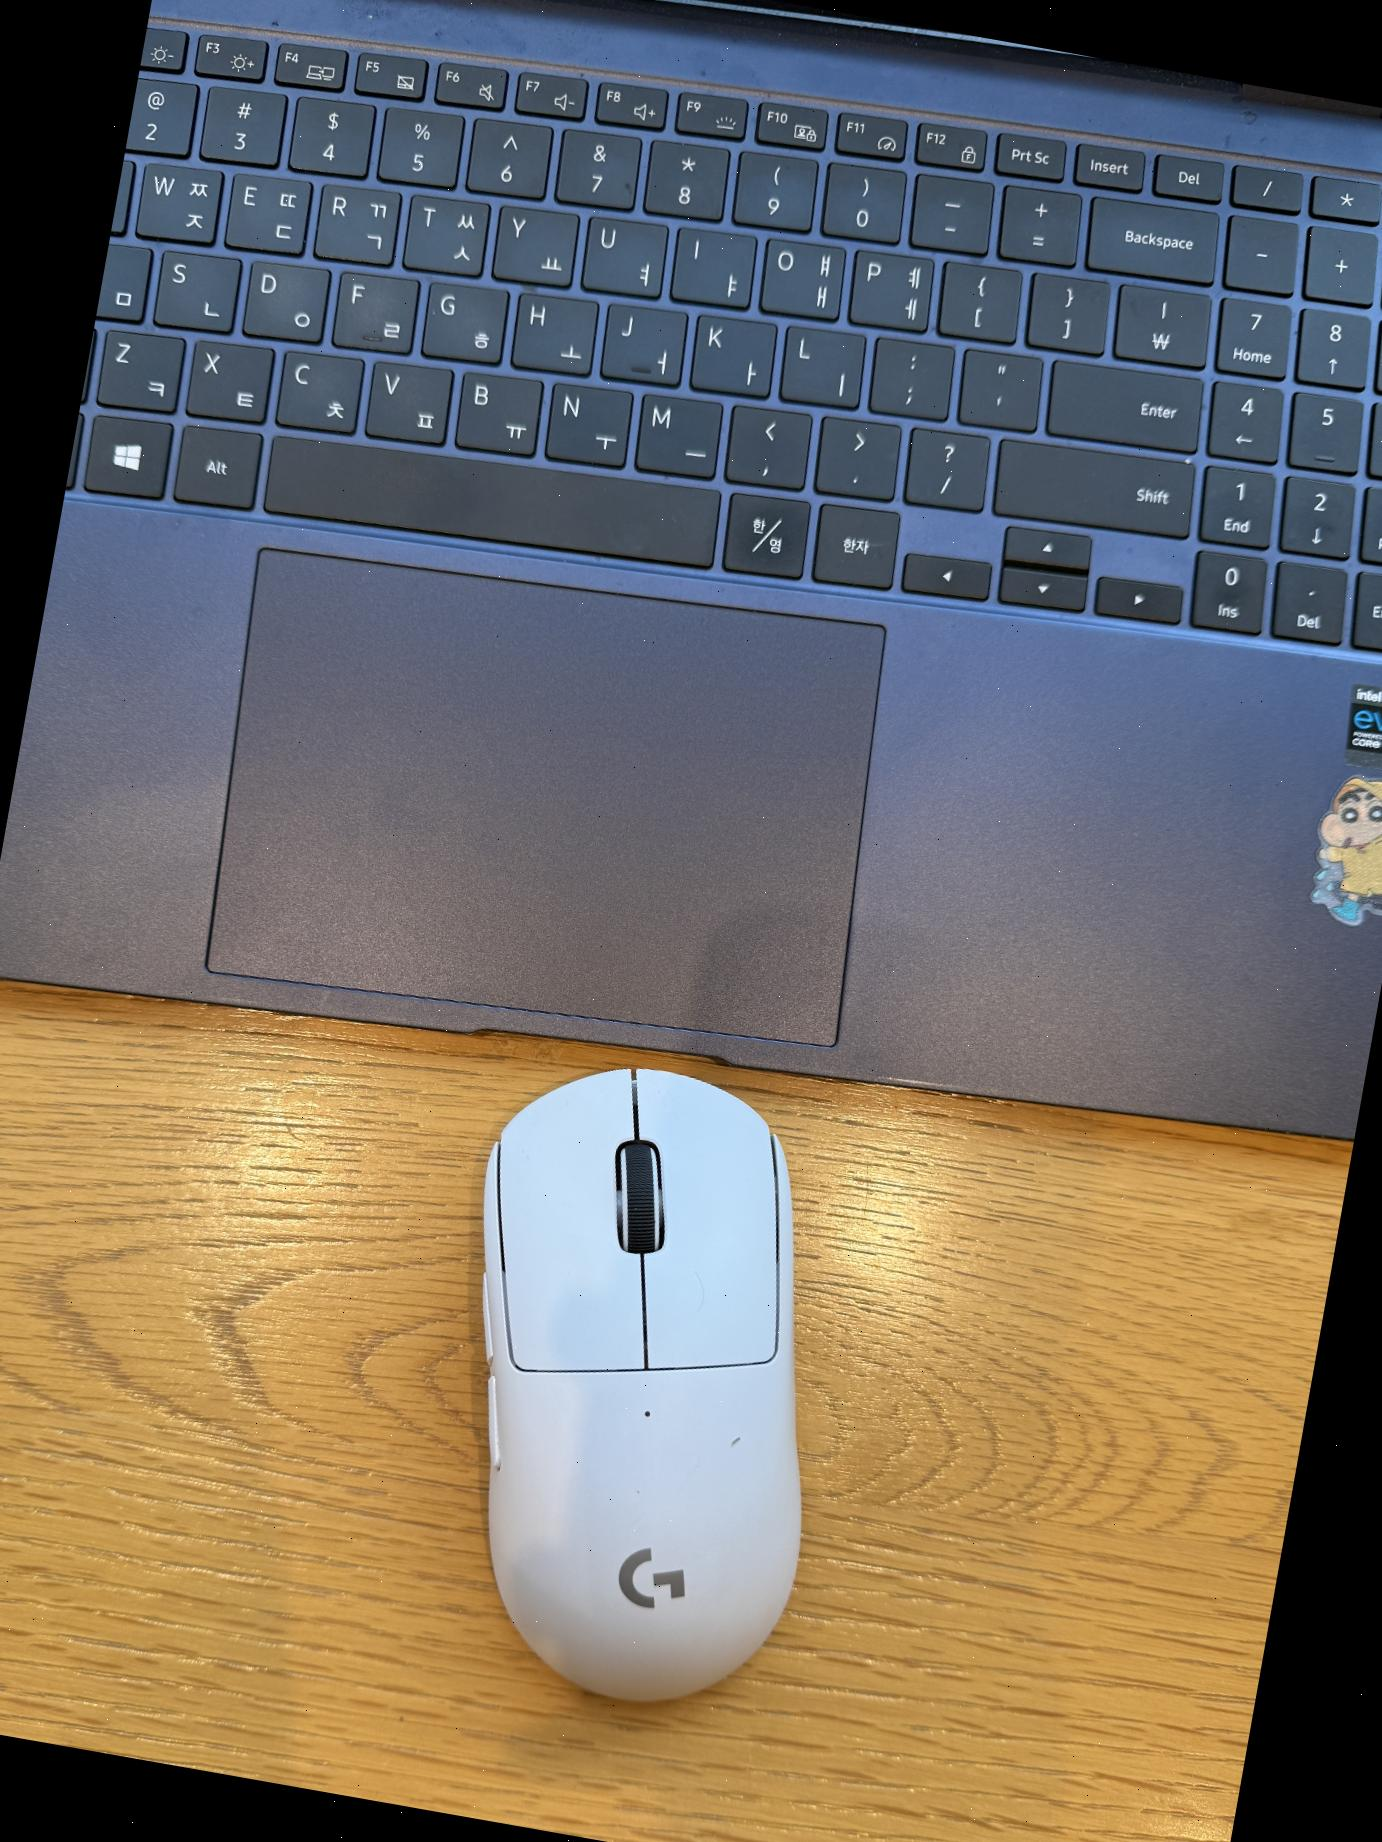front: (386, 1044, 894, 1732)
